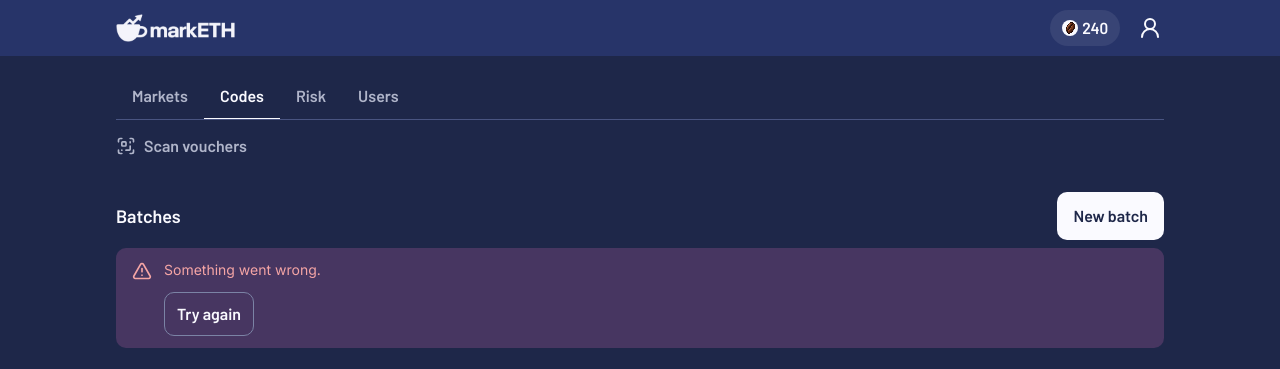
Scenario: Admin: code batches › batches that cannot be read show the API's message with Try again
This screenshot has width=1280, height=369.
Check: the message shows "Something went wrong.", box [164,261,321,278]
Click the button "Try again" at [209, 314], box [164,292,254,336]
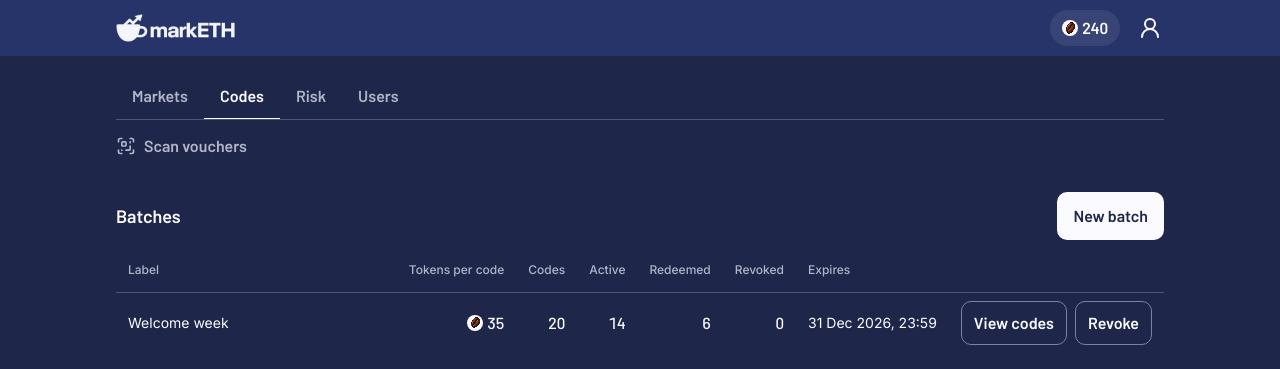
Check: the table named "Batches" is shown, box [116,248,1164,352]
Check: the message "Something went wrong. Try again" is gone
